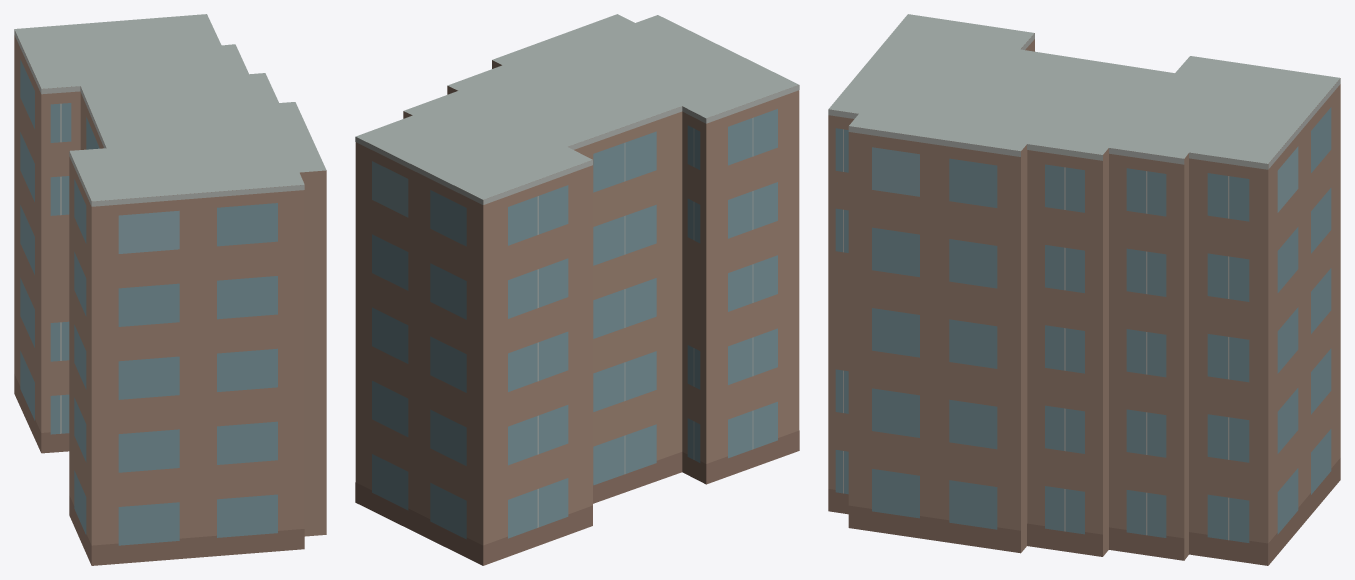
File: survey-upis-32885390.glb
3 renders of one model, left to right at view 1: azimuth 30°, elevation 25°; view 2: azimuth 150°, elevation 25°; view 3: azimuth 270°, elevation 25°, orthographic. The views are drawn at different scales.
Visible parts, largest first — view 1: survey-upis-32885390.tmp; view 2: survey-upis-32885390.tmp; view 3: survey-upis-32885390.tmp.
Boxes of the visible parts, left/top/right/bottom form: survey-upis-32885390.tmp: left=14, top=14, right=326, bottom=565; survey-upis-32885390.tmp: left=355, top=14, right=799, bottom=565; survey-upis-32885390.tmp: left=828, top=14, right=1340, bottom=565.
Bounding box in the file's own units: 13.37 × 16.7 × 19.3.
